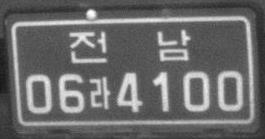0: (181, 69, 211, 113), (24, 73, 53, 115), (216, 69, 244, 112)
1: (150, 70, 174, 112)
4: (115, 71, 143, 113)
6: (57, 72, 86, 114)
라: (89, 75, 111, 110)
전남_D: (67, 28, 191, 65)
